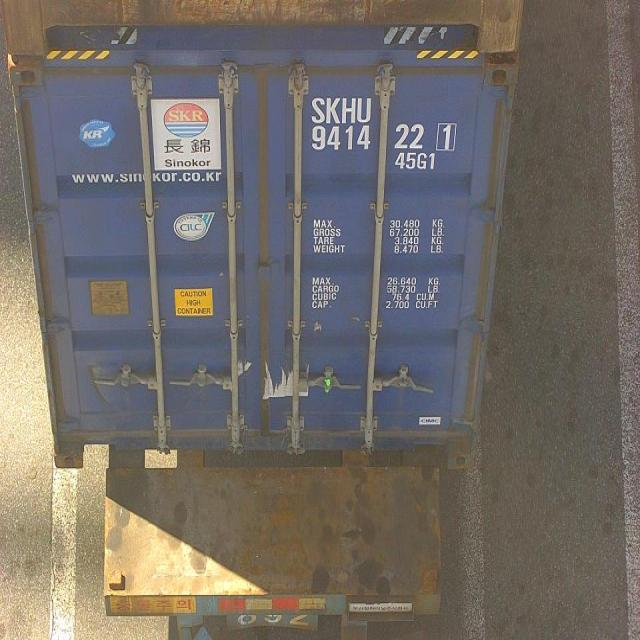ISO: (394, 150, 439, 172)
container_number: (307, 95, 468, 151)
